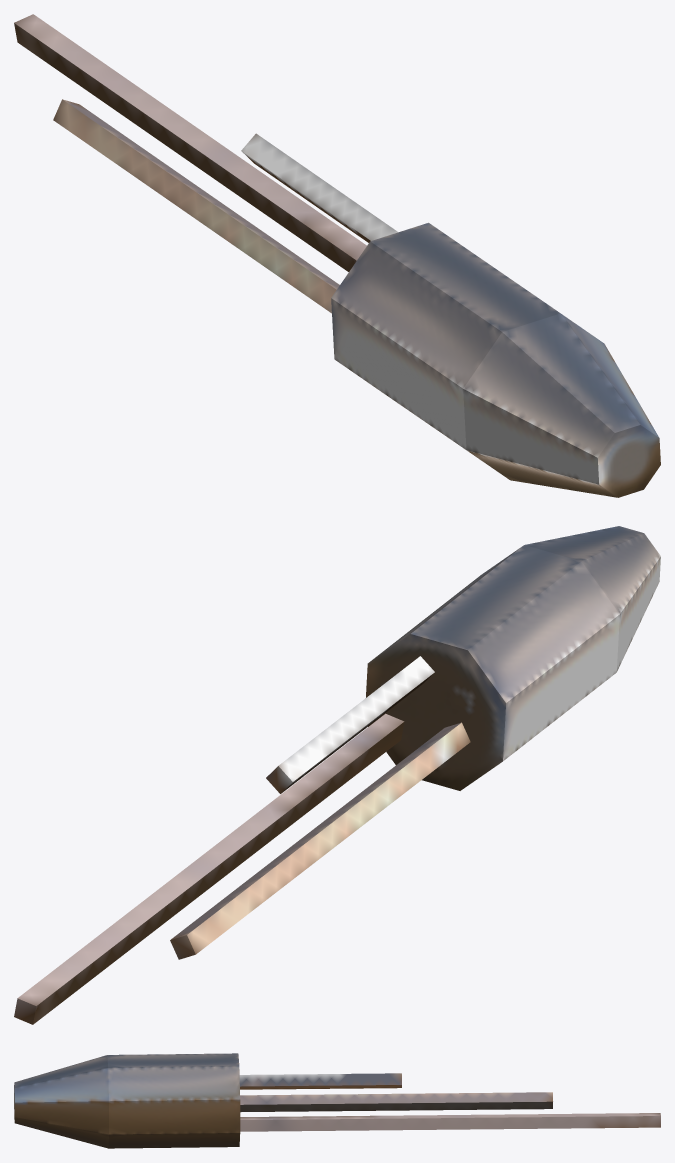
The picture shows the model from 3 angles, top to bottom: view 1: azimuth 30°, elevation 25°; view 2: azimuth 150°, elevation 25°; view 3: azimuth 270°, elevation 25°; orthographic projection. The views are drawn at different scales.
Visible parts, largest first — view 1: Bala_Cylinder.003, Estela_1_Cube.006, Estela_3_Cube.008, Estela_2_Cube.007; view 2: Bala_Cylinder.003, Estela_1_Cube.006, Estela_3_Cube.008, Estela_2_Cube.007; view 3: Bala_Cylinder.003, Estela_1_Cube.006, Estela_3_Cube.008, Estela_2_Cube.007.
Boxes of the visible parts, x1=… form: Bala_Cylinder.003: x1=331, y1=222, x2=660, y2=497; Estela_1_Cube.006: x1=14, y1=14, x2=366, y2=271; Estela_3_Cube.008: x1=53, y1=99, x2=339, y2=313; Estela_2_Cube.007: x1=241, y1=133, x2=397, y2=242; Bala_Cylinder.003: x1=366, y1=526, x2=660, y2=790; Estela_1_Cube.006: x1=14, y1=713, x2=404, y2=1024; Estela_3_Cube.008: x1=170, y1=722, x2=470, y2=959; Estela_2_Cube.007: x1=266, y1=656, x2=434, y2=793; Bala_Cylinder.003: x1=14, y1=1053, x2=240, y2=1148; Estela_1_Cube.006: x1=240, y1=1113, x2=660, y2=1131; Estela_3_Cube.008: x1=240, y1=1092, x2=552, y2=1112; Estela_2_Cube.007: x1=239, y1=1073, x2=401, y2=1089.
Size of what is drawn, in the model's own units: 0.2757 by 0.2648 by 1.94.
